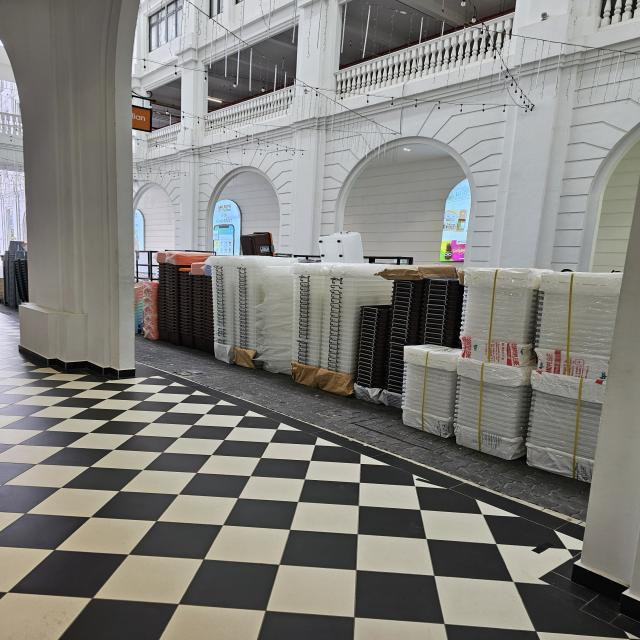footpath: (0, 413, 463, 639)
wall: (4, 83, 145, 378)
